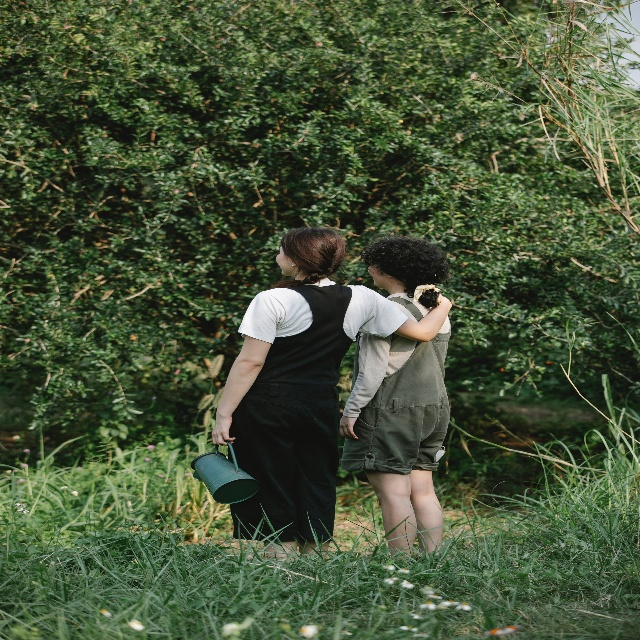Sin_guantes: (211, 414, 236, 445), (339, 413, 359, 440)
